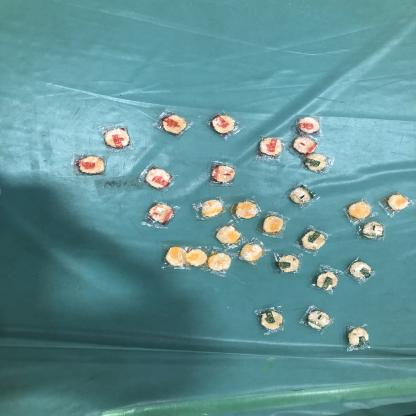green_setoshio: (300, 302, 336, 335), (254, 303, 288, 335), (270, 249, 304, 278), (344, 321, 374, 352), (296, 226, 330, 252), (312, 265, 342, 294), (286, 184, 322, 208), (355, 220, 390, 243), (302, 152, 336, 175), (346, 257, 376, 282)
red_setoshio: (140, 164, 179, 193), (144, 200, 181, 230), (203, 157, 239, 187), (69, 152, 107, 178), (208, 110, 243, 138), (100, 124, 134, 152), (158, 110, 192, 136), (255, 136, 284, 160), (294, 114, 322, 136), (292, 136, 322, 156)
yellow_setoshio: (192, 195, 229, 221), (158, 242, 190, 270), (207, 248, 237, 276), (259, 212, 290, 238), (234, 196, 263, 222), (343, 198, 377, 220), (382, 190, 412, 214), (214, 224, 244, 248), (237, 238, 265, 263), (187, 243, 208, 270)
